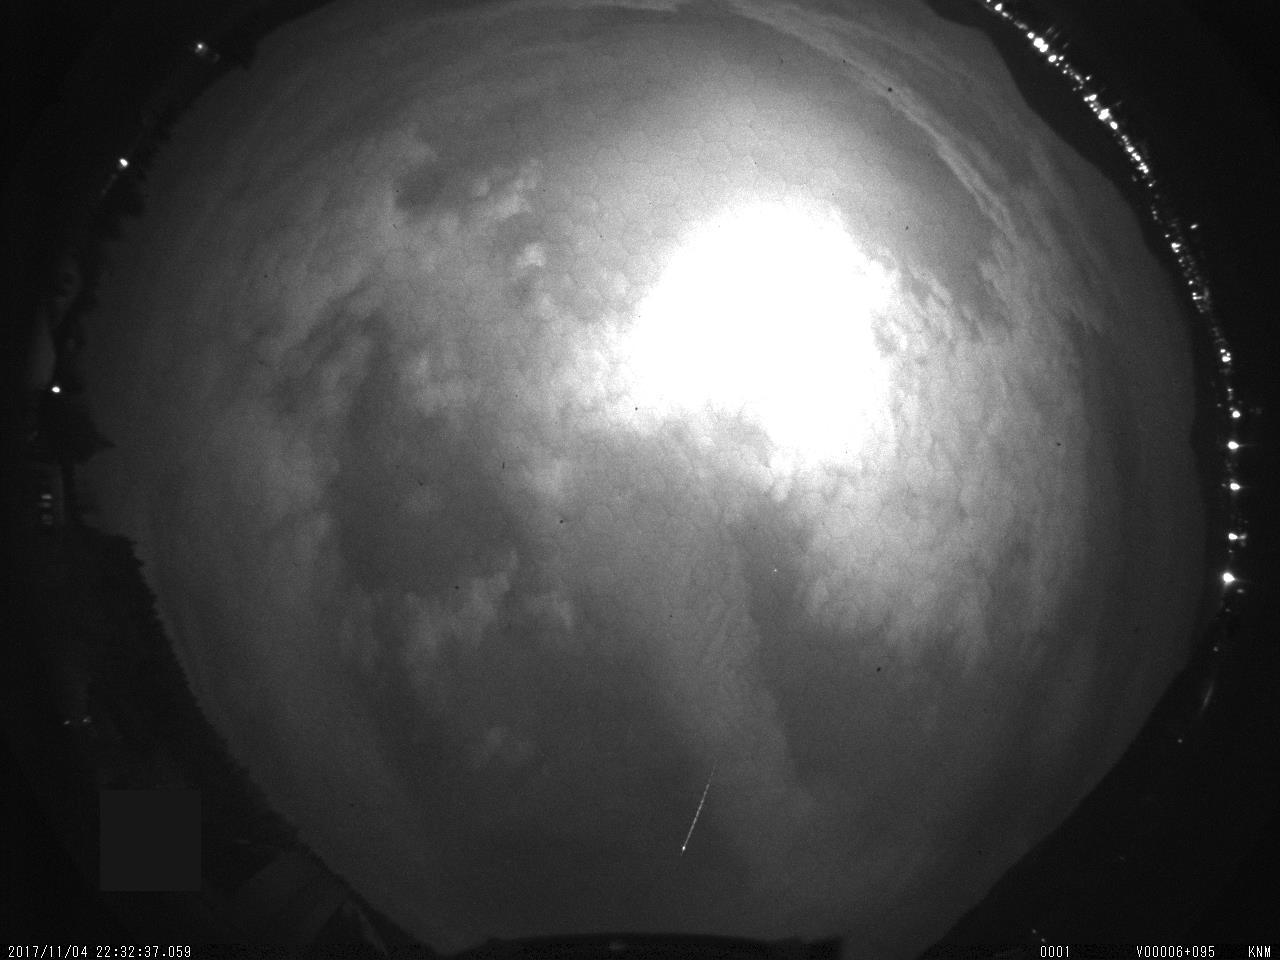meteor: (667, 749, 725, 864)
